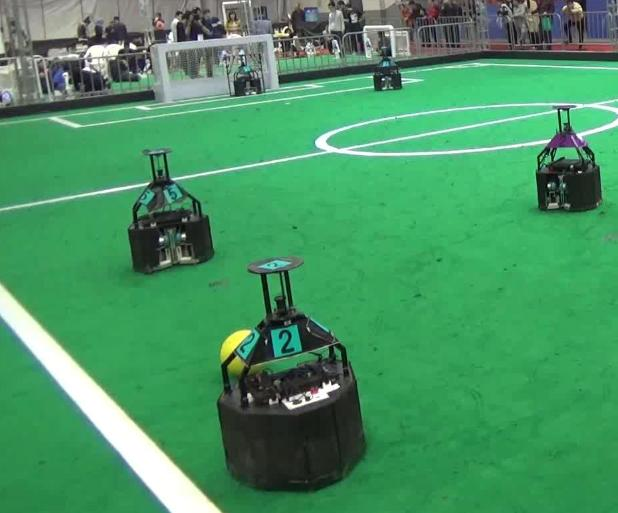robot: (206, 253, 375, 495), (123, 143, 220, 278), (529, 102, 606, 216)
